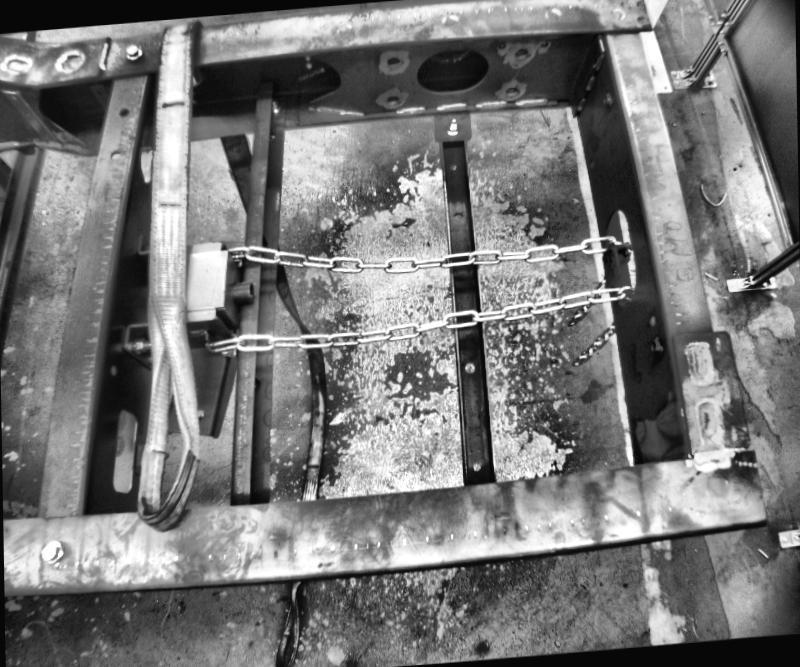bolt: (43, 540, 64, 562), (123, 43, 143, 66), (646, 335, 664, 356), (134, 339, 156, 356), (263, 98, 281, 114), (446, 117, 457, 139), (602, 92, 612, 107)
bracket: (597, 240, 621, 290)
hole: (414, 44, 489, 96), (109, 402, 140, 502), (382, 54, 401, 70), (386, 94, 401, 108), (512, 46, 527, 60), (462, 362, 474, 376), (504, 86, 518, 98), (644, 314, 656, 326), (450, 209, 461, 222), (108, 364, 118, 378), (471, 462, 482, 474), (108, 150, 119, 160), (118, 106, 128, 116), (449, 160, 457, 170)
welding: (570, 99, 585, 115), (590, 54, 602, 73), (580, 82, 594, 95)
